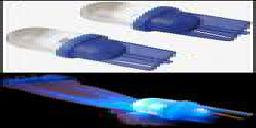LED: (7, 25, 155, 79), (122, 88, 216, 127), (78, 3, 169, 26)
